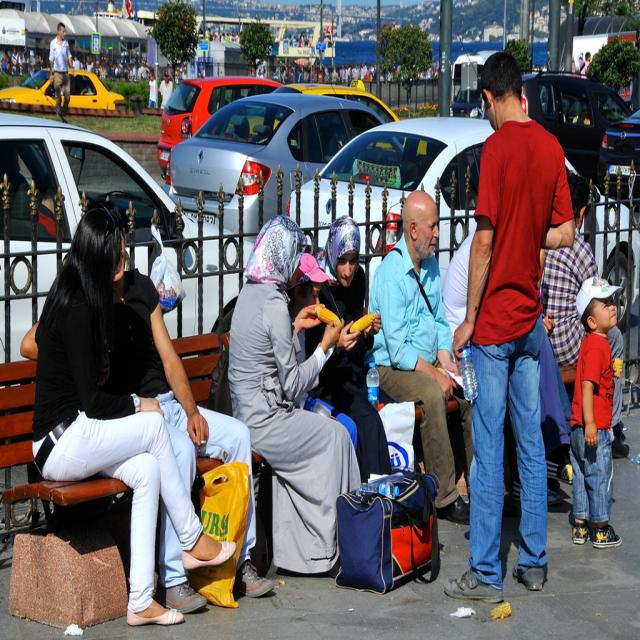car: (516, 61, 633, 187), (451, 84, 483, 116)
